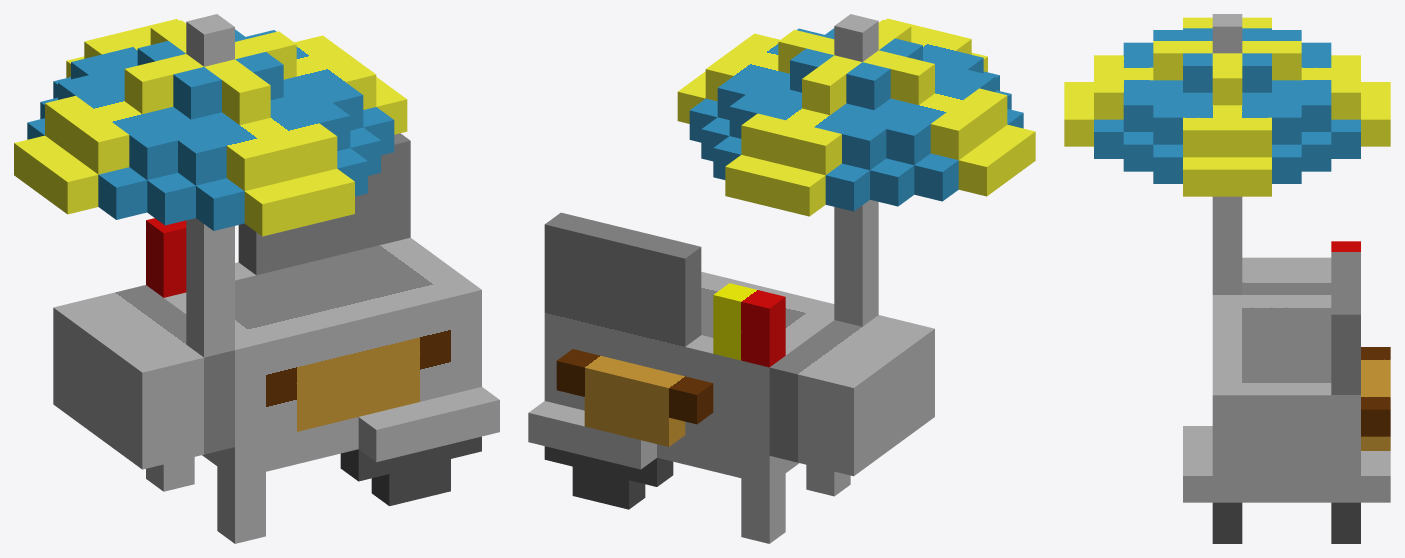
The model's file is obj_dogstand.fbx.
3 views of the same model, side by side, from view 1: azimuth 30°, elevation 25°; view 2: azimuth 150°, elevation 25°; view 3: azimuth 270°, elevation 25° (orthographic). The views are drawn at different scales.
Parts seen in each view (by area): view 1: obj_dogstand; view 2: obj_dogstand; view 3: obj_dogstand.
Part boxes in pixels (box(x1,y1,x2,y2)): obj_dogstand: box(14, 14, 499, 543); obj_dogstand: box(528, 14, 1035, 543); obj_dogstand: box(1064, 14, 1390, 543).
Bounding box in the file's own units: 1.4 × 1.1 × 1.6.
Materials: 1 (1 with a texture image).
